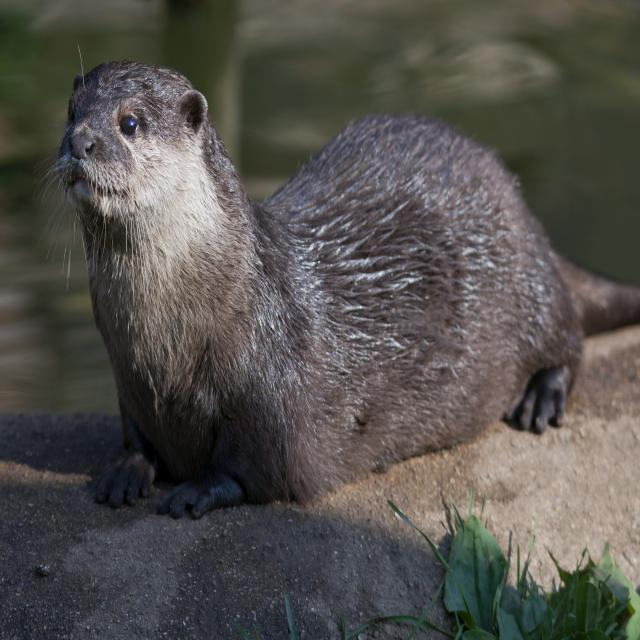otter: (65, 61, 582, 515)
